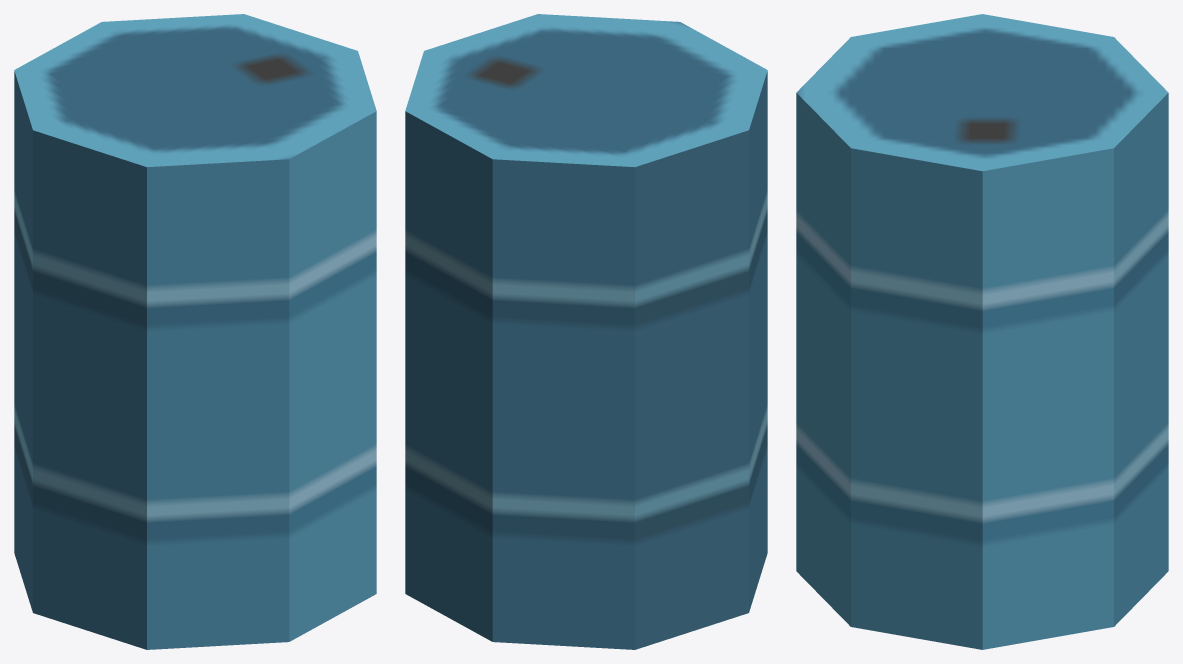
The model's file is SM_Prop_Barrel_03.fbx.
The picture shows the model from 3 angles, left to right: view 1: azimuth 30°, elevation 25°; view 2: azimuth 150°, elevation 25°; view 3: azimuth 270°, elevation 25°; orthographic projection.
Parts seen in each view (by area): view 1: SM_Prop_Barrel_03; view 2: SM_Prop_Barrel_03; view 3: SM_Prop_Barrel_03.
Boxes of the visible parts, x1,y1,x2,y2 form: SM_Prop_Barrel_03: (14,14,376,649); SM_Prop_Barrel_03: (405,14,767,649); SM_Prop_Barrel_03: (796,14,1168,649).
Size of the model in its own units: 0.9465 by 1.34 by 0.9465.
